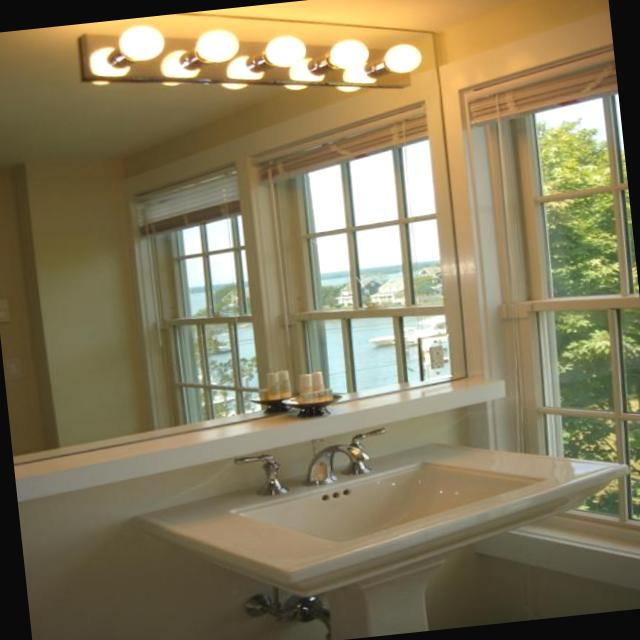curtains: (452, 44, 640, 546)
faucet: (302, 440, 372, 486)
plants: (528, 110, 640, 531)
windows: (256, 102, 465, 408), (126, 160, 268, 428)
